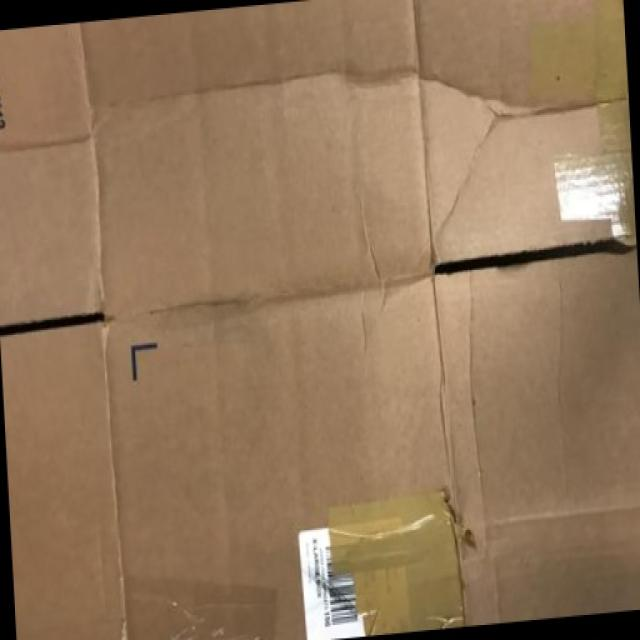carton: (4, 9, 640, 614)
